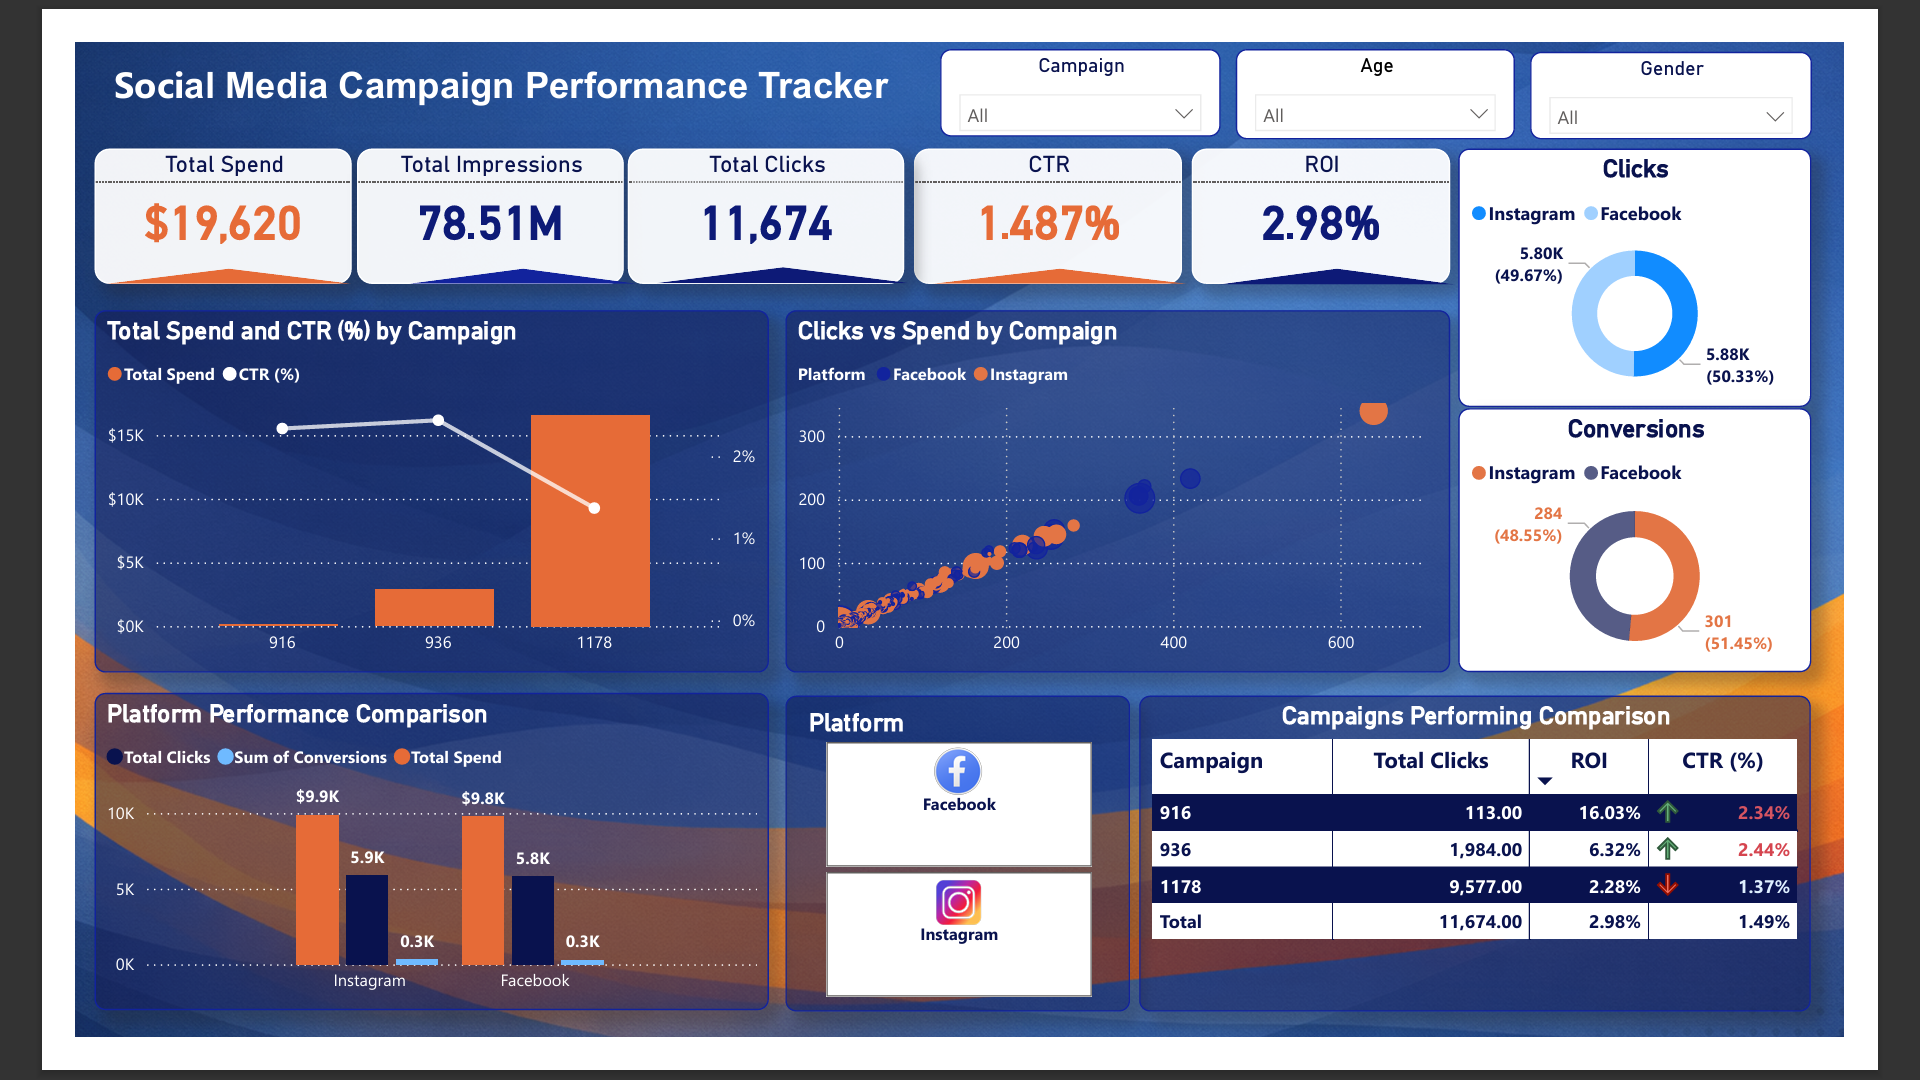

Layout of this report page (visuals, bound fields, positions):
{"tool":"powerbi","page":{"name":"Page 1","canvas":[1280,720],"ordinal":0},"visuals":[{"type":"card","title":"Total Spend","fields":{"Values":["data.Total Spend"]},"box":[13.7,78.2,188,98.8],"z":0},{"type":"card","title":"CTR","fields":{"Values":["data.CTR (%)"]},"box":[613.4,78.2,196.2,98.8],"z":1000},{"type":"card","title":"Total Clicks","fields":{"Values":["data.Total Clicks"]},"box":[404.4,78.2,202.1,98.8],"z":1500,"group":"g1"},{"type":"card","title":"ROI","fields":{"Values":["data.ROI"]},"box":[816.1,78.2,188.6,98.8],"z":2000},{"type":"shape","box":[425.7,165.5,184.5,11.5],"z":2001,"group":"g1"},{"type":"card","title":"Total Impressions","fields":{"Values":["data.Total Impressions"]},"box":[205.8,78.2,194.9,98.8],"z":3000},{"type":"shape","box":[836,165.5,172.2,11.5],"z":4000},{"type":"shape","box":[23.3,166,178.4,11],"z":5000},{"type":"shape","box":[627.1,166,185.2,11],"z":6000},{"type":"shape","box":[244.3,166,166,11],"z":7000},{"type":"textbox","box":[23.3,6.9,603.8,61.7],"z":8000},{"type":"group","id":"g1","title":"Group 1","box":[404.4,78.2,204.5,98.8],"z":9000},{"type":"lineClusteredColumnComboChart","fields":{"Category":["data.Campaign"],"Y":["data.Total Spend"],"Y2":["data.CTR (%)"]},"box":[13.7,196.2,492.6,264.8],"z":10000},{"type":"scatterChart","title":"Clicks vs Spend by Compaign","fields":{"X":["data.Spend"],"Y":["Sum(data.Clicks)"],"Size":["Sum(data.Conversions)"],"Series":["data.Platform"]},"box":[518.7,196.2,485.8,264.8],"z":11000},{"type":"donutChart","title":"Clicks","fields":{"Y":["data.Total Clicks"],"Category":["data.Platform"]},"box":[1011.3,78.2,258,189.4],"z":13000},{"type":"donutChart","title":" Conversions","fields":{"Y":["Sum(data.Conversions)"],"Category":["data.Platform"]},"box":[1011.3,267.6,258,193.5],"z":14000},{"type":"slicer","fields":{"Values":["data.Platform"]},"box":[518.8,477.5,252.3,230.9],"z":15000},{"type":"tableEx","title":" Campaigns Performing Comparison","fields":{"Values":["data.Campaign","data.Total Clicks","data.ROI","data.CTR (%)","select"]},"box":[778,477.5,491.3,230.5],"z":16000},{"type":"clusteredColumnChart","title":"Platform Performance Comparison","fields":{"Category":["data.Platform"],"Y":["data.Total Clicks","Sum(data.Conversions)","data.Total Spend"]},"box":[14.3,476.1,493.2,232.3],"z":17000},{"type":"slicer","title":"Campaign","fields":{"Values":["data.Campaign"]},"box":[632.6,5.5,205,64.5],"z":18000},{"type":"slicer","title":"Age","fields":{"Values":["data.age"]},"box":[848,5.5,204.5,65.9],"z":19000},{"type":"slicer","title":"Gender","fields":{"Values":["data.gender"]},"box":[1063.5,6.9,205.8,64.5],"z":20000},{"type":"image","box":[613.1,513.1,64.6,39.4],"z":21000},{"type":"image","box":[584.8,605.1,122.2,48.5],"z":22000}]}

Visuals, with their boxes in screenshot pixels (x1, y1, x2, y2), scaled from the page's 1280x720 canvas onto the 1920x1080 screenshot:
"Total Spend" card: (x1=21, y1=117, x2=303, y2=266)
"CTR" card: (x1=920, y1=117, x2=1214, y2=266)
"Total Clicks" card: (x1=607, y1=117, x2=910, y2=266)
"ROI" card: (x1=1224, y1=117, x2=1507, y2=266)
shape: (x1=639, y1=248, x2=915, y2=266)
"Total Impressions" card: (x1=309, y1=117, x2=601, y2=266)
shape: (x1=1254, y1=248, x2=1512, y2=266)
shape: (x1=35, y1=249, x2=303, y2=266)
shape: (x1=941, y1=249, x2=1218, y2=266)
shape: (x1=366, y1=249, x2=615, y2=266)
textbox: (x1=35, y1=10, x2=941, y2=103)
"Group 1" group: (x1=607, y1=117, x2=913, y2=266)
lineClusteredColumnComboChart - data.Campaign x data.Total Spend: (x1=21, y1=294, x2=759, y2=692)
"Clicks vs Spend by Compaign" scatterChart: (x1=778, y1=294, x2=1507, y2=692)
"Clicks" donutChart: (x1=1517, y1=117, x2=1904, y2=401)
" Conversions" donutChart: (x1=1517, y1=401, x2=1904, y2=692)
slicer - data.Platform: (x1=778, y1=716, x2=1157, y2=1063)
" Campaigns Performing Comparison" tableEx: (x1=1167, y1=716, x2=1904, y2=1062)
"Platform Performance Comparison" clusteredColumnChart: (x1=21, y1=714, x2=761, y2=1063)
"Campaign" slicer: (x1=949, y1=8, x2=1256, y2=105)
"Age" slicer: (x1=1272, y1=8, x2=1579, y2=107)
"Gender" slicer: (x1=1595, y1=10, x2=1904, y2=107)
image: (x1=920, y1=770, x2=1017, y2=829)
image: (x1=877, y1=908, x2=1060, y2=980)
